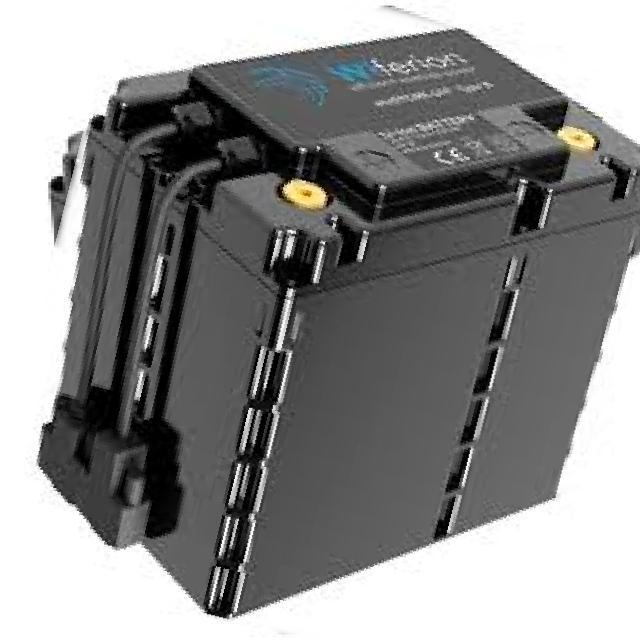Battery: (38, 13, 635, 624)
